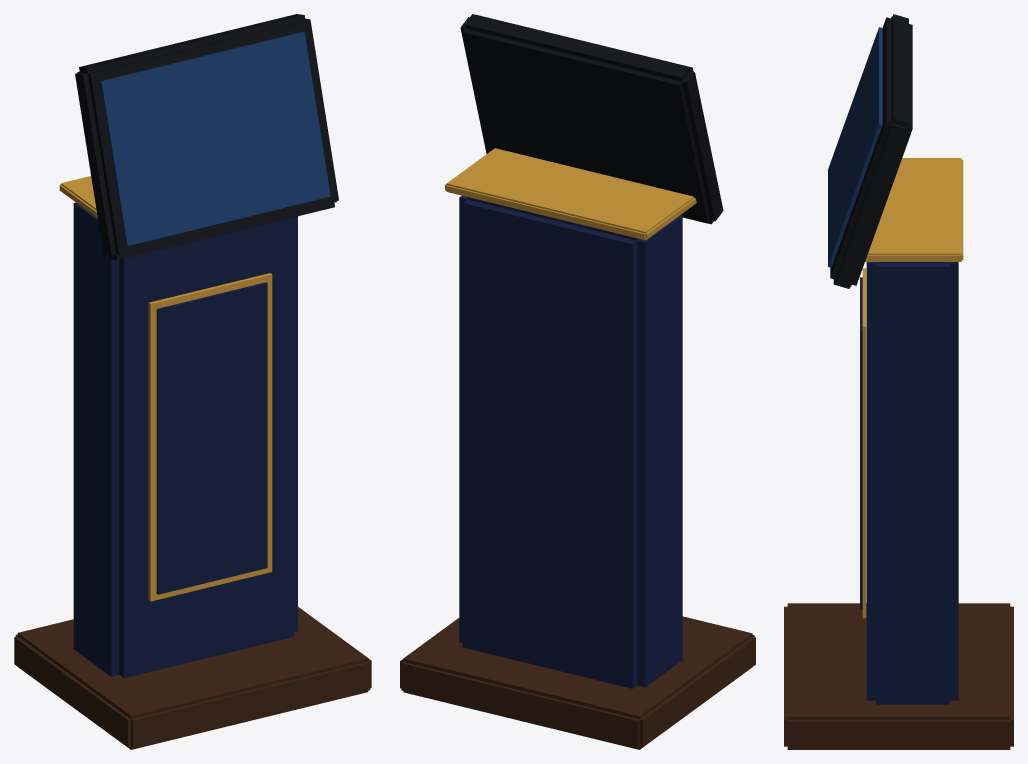
File: kiosk.glb
The picture shows the model from 3 angles, left to right: view 1: azimuth 30°, elevation 25°; view 2: azimuth 150°, elevation 25°; view 3: azimuth 270°, elevation 25°; orthographic projection. The views are drawn at different scales.
Parts seen in each view (by area): view 1: kiosk_navy, kiosk_screen, kiosk_wood_dark, kiosk_dark, kiosk_brass; view 2: kiosk_navy, kiosk_dark, kiosk_wood_dark, kiosk_brass; view 3: kiosk_navy, kiosk_wood_dark, kiosk_brass, kiosk_dark, kiosk_screen.
Boxes of the visible parts, x1,y1,x2,y2 form: kiosk_navy: (73, 202, 297, 678); kiosk_screen: (100, 31, 330, 245); kiosk_wood_dark: (14, 607, 371, 749); kiosk_dark: (75, 14, 338, 260); kiosk_brass: (59, 176, 272, 601); kiosk_navy: (459, 195, 682, 688); kiosk_dark: (460, 14, 723, 224); kiosk_wood_dark: (400, 616, 755, 749); kiosk_brass: (445, 148, 696, 240); kiosk_navy: (860, 262, 958, 704); kiosk_wood_dark: (784, 603, 1013, 749); kiosk_brass: (862, 158, 963, 618); kiosk_dark: (830, 14, 912, 288); kiosk_screen: (828, 27, 882, 267).
Bounding box in the file's own units: 0.6 × 1.51 × 0.5.
